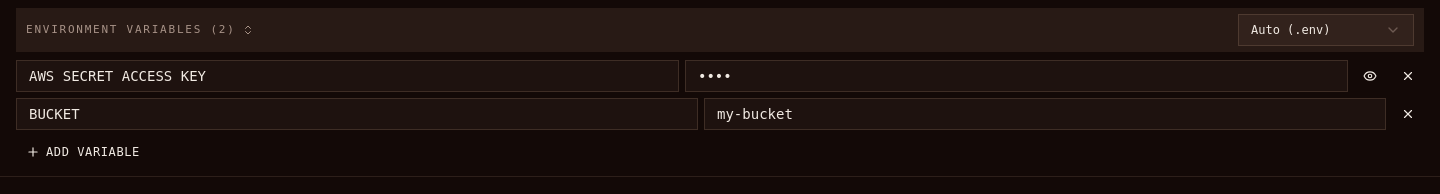
Test: reveals a masked value on demand
This screenshot has width=1440, height=194.
Click the button named "Show value for AWS_SECRET_ACCESS_KEY".
click(1370, 76)  # box [1354,60,1386,92]
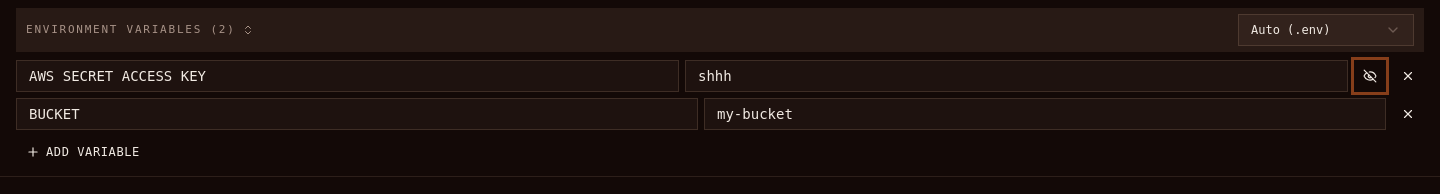
expect the field named "Value for AWS_SECRET_ACCESS_KEY" shows its text: met, box [685,60,1348,92]
